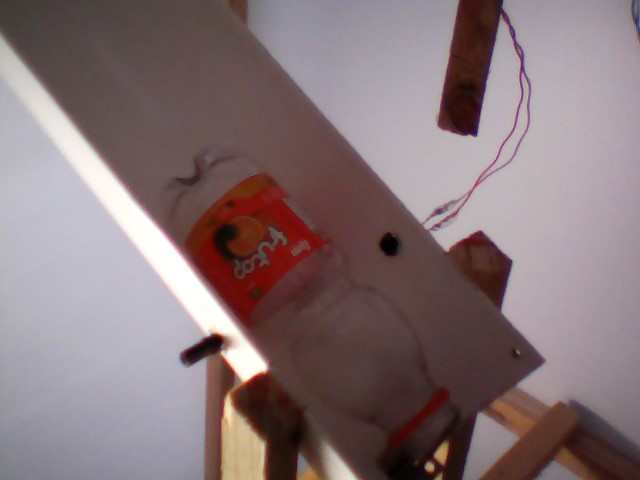plastico: (140, 140, 463, 468)
